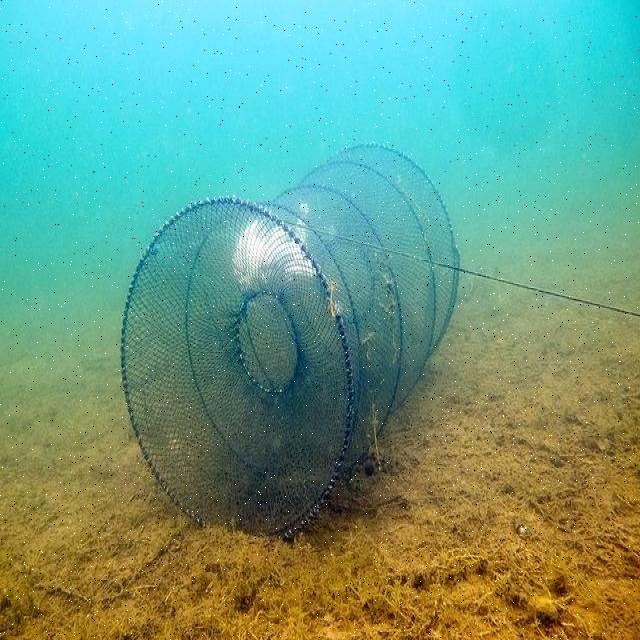robots: (121, 145, 639, 535)
